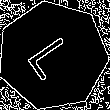L_NE: (23, 29, 83, 83)
